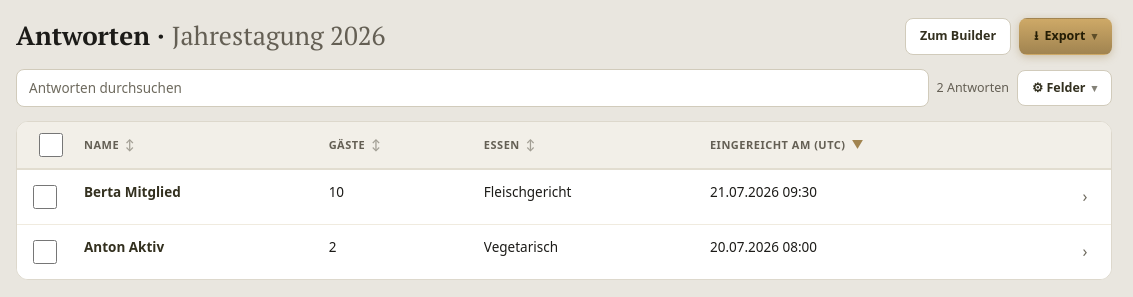
Scenario: ResponsesView › says so when nothing matches, rather than showing an empty table
This screenshot has width=1133, height=297.
expect the heading "Antworten · Jahrestagung 2026" is shown: met, box x1=16 y1=21 x2=386 y2=51
Step 1. Type "Zeppelin" into the search field labelled "Antworten durchsuchen" → {"x": 472, "y": 88}, box x1=16 y1=69 x2=928 y2=107
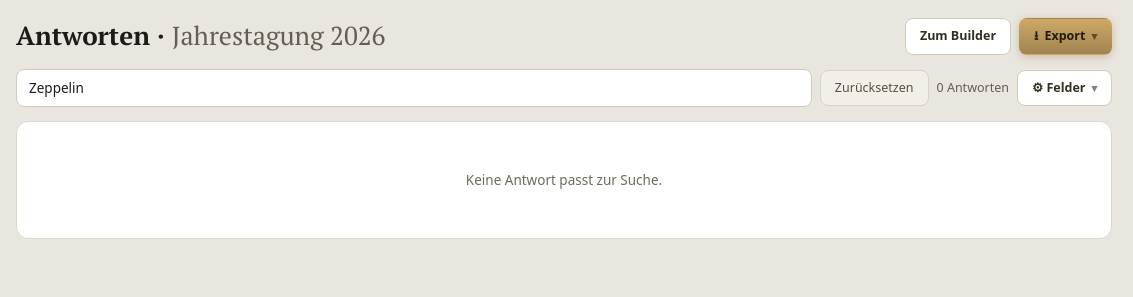
expect the text "Keine Antwort passt zur Suche." is shown: met, box x1=16 y1=121 x2=1112 y2=239
expect the table is gone: met
